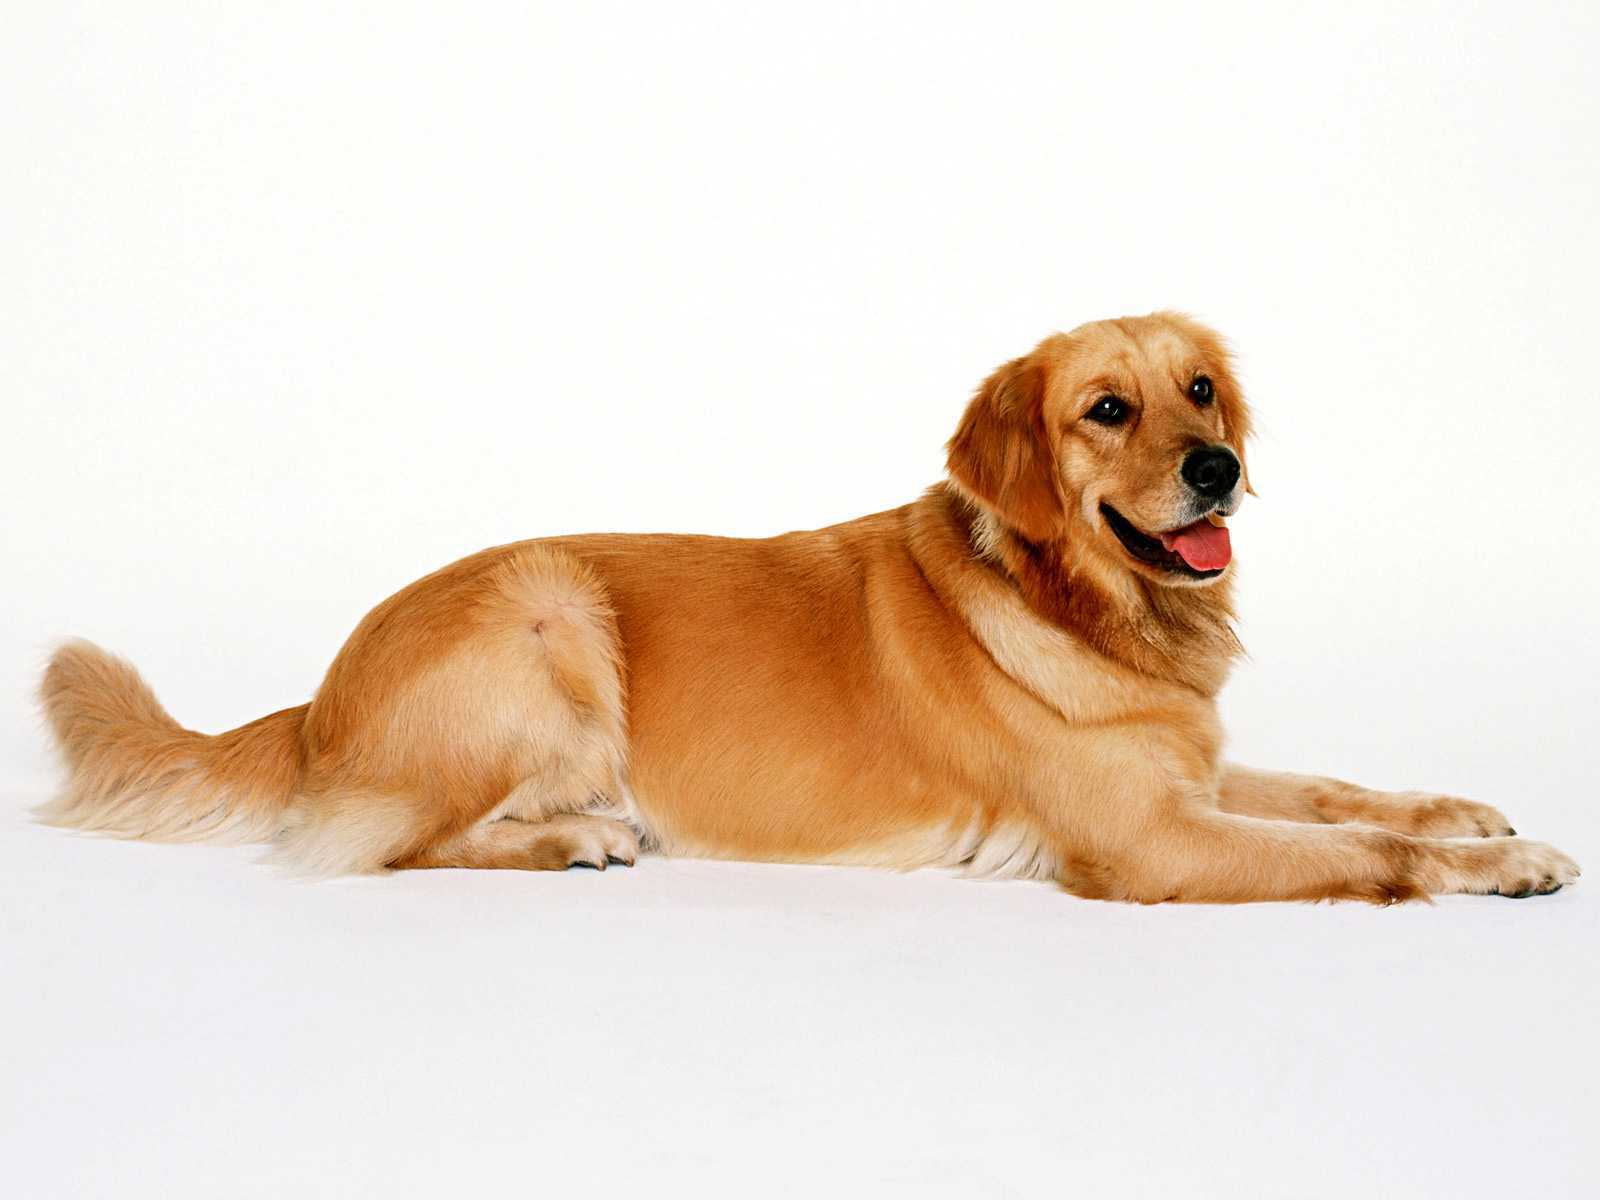dog: (25, 300, 1597, 943)
golden-retriever: (26, 303, 1599, 945)
